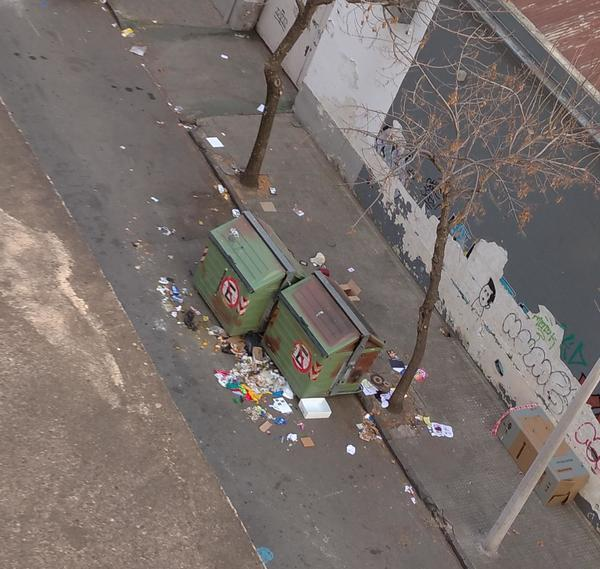Dechets: (215, 342, 293, 432), (493, 404, 557, 474), (532, 435, 591, 503), (157, 277, 207, 331), (390, 345, 427, 390), (415, 407, 456, 442), (361, 374, 393, 412), (295, 395, 333, 422), (335, 270, 365, 301), (282, 426, 316, 451), (214, 183, 238, 216), (355, 414, 380, 441), (205, 324, 230, 349), (303, 247, 326, 272), (126, 37, 149, 60), (202, 127, 226, 149), (283, 199, 306, 220), (117, 21, 139, 41), (341, 441, 361, 458), (220, 47, 230, 61)
Trash: (262, 269, 383, 399), (193, 211, 306, 335)
